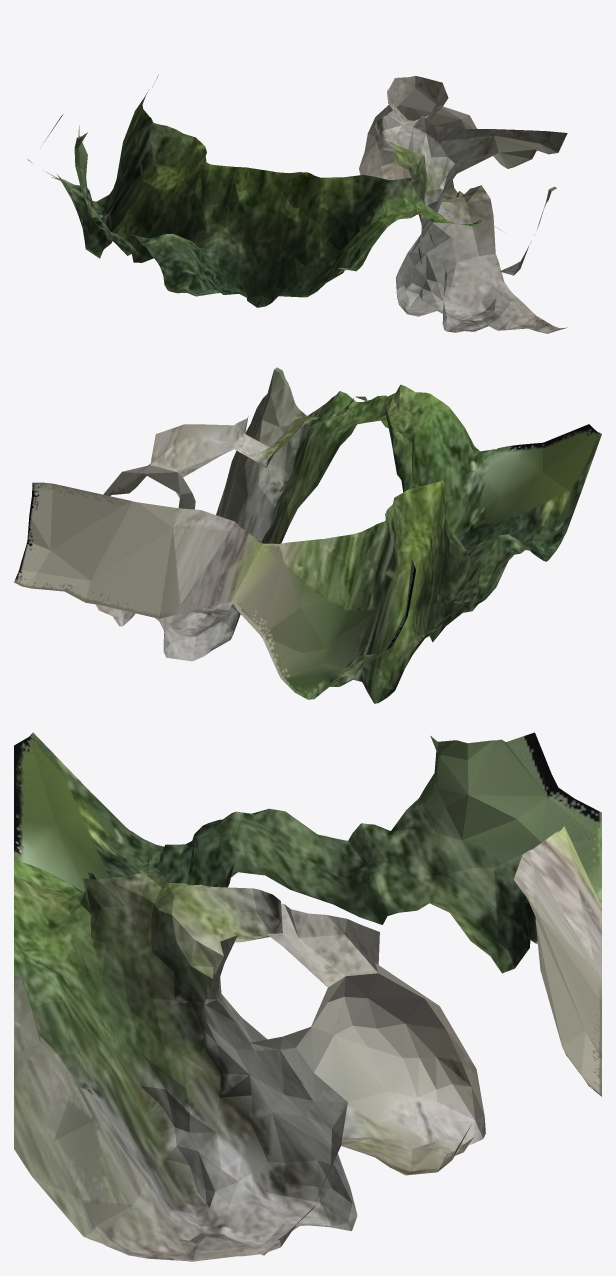
The picture shows the model from 3 angles, top to bottom: view 1: azimuth 30°, elevation 25°; view 2: azimuth 150°, elevation 25°; view 3: azimuth 270°, elevation 25°; orthographic projection. The views are drawn at different scales.
Bounding box in the file's own units: 11.8 × 6.56 × 11.8.
4 materials, 4 textured.
